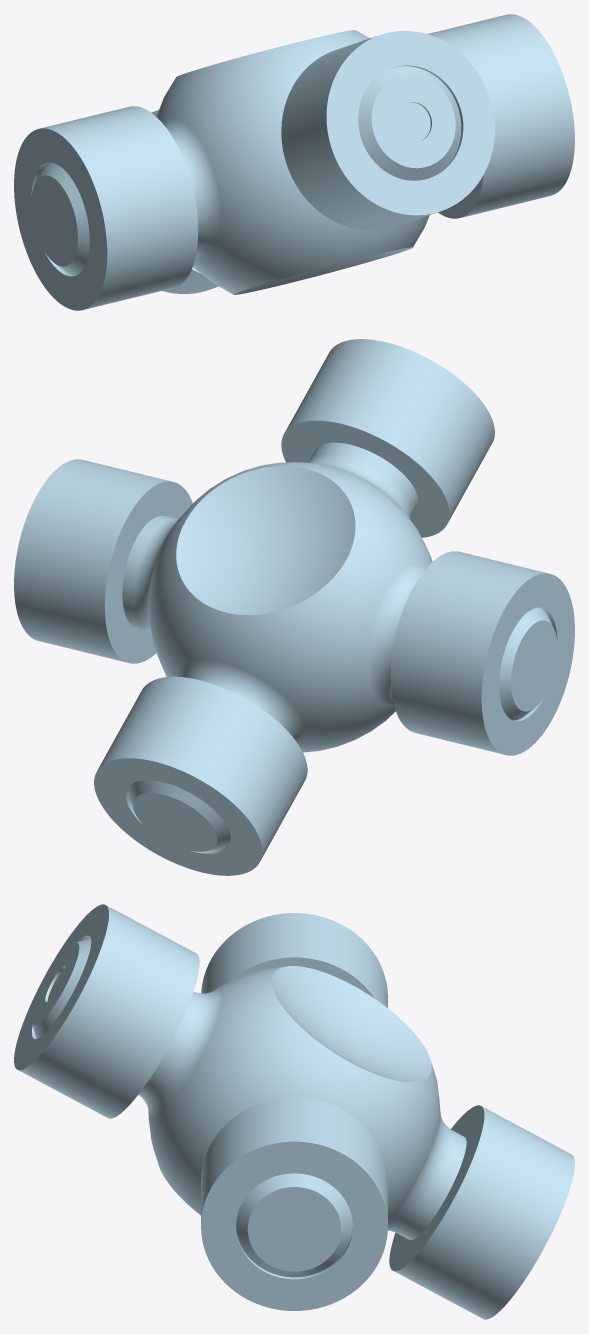
File: croisillion_haut6.dae
The picture shows the model from 3 angles, top to bottom: view 1: azimuth 30°, elevation 25°; view 2: azimuth 150°, elevation 25°; view 3: azimuth 270°, elevation 25°; orthographic projection.
Visible parts, largest first — view 1: C0001_0001-2_Croisillon_1; view 2: C0001_0001-2_Croisillon_1; view 3: C0001_0001-2_Croisillon_1.
Part boxes in pixels (x1,y1,x2,y2): C0001_0001-2_Croisillon_1: (14,14,574,310); C0001_0001-2_Croisillon_1: (14,339,574,875); C0001_0001-2_Croisillon_1: (14,904,574,1319).
Bounding box in the file's own units: 0.095 × 0.096 × 0.0746.
